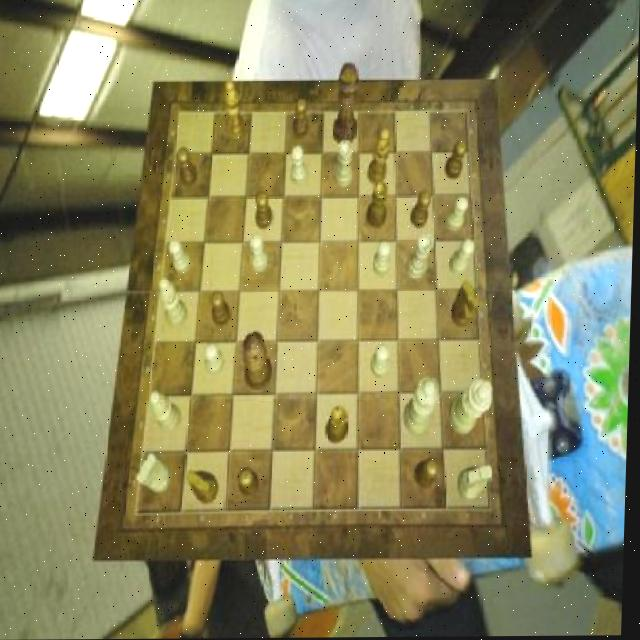bishop: (224, 80, 247, 140), (369, 127, 391, 185)
black-bishop: (333, 63, 360, 145)
black-king: (453, 282, 481, 328), (189, 471, 223, 505)
black-knight: (179, 146, 200, 186), (446, 141, 468, 179), (418, 457, 442, 490), (412, 191, 432, 229), (212, 291, 233, 327), (241, 467, 264, 499), (256, 192, 275, 230), (294, 100, 311, 140)
black-pawn: (243, 332, 275, 391)
black-queen: (368, 182, 390, 228), (328, 407, 351, 445)
black-rook: (160, 277, 191, 329), (151, 391, 185, 434)
white-bishop: (451, 379, 496, 435)
white-king: (139, 453, 176, 493), (461, 466, 497, 501)
white-knight: (451, 239, 475, 277), (447, 197, 471, 232), (171, 239, 194, 275), (251, 234, 271, 271), (293, 146, 311, 186), (207, 343, 227, 376), (374, 242, 392, 277), (373, 345, 391, 379)
white-pawn: (407, 377, 443, 436)
white-queen: (409, 234, 434, 280), (334, 141, 355, 189)
